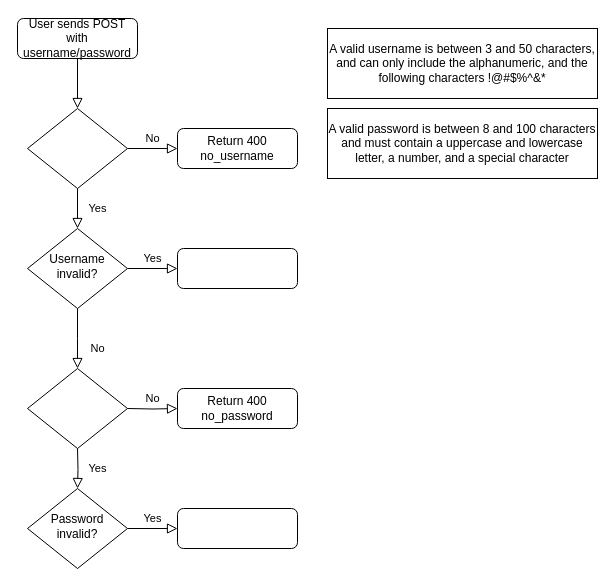
Image size: 615x586. Some labels were removed from this diagram. Here are the shapes that lost their labels. From the top down, the centre of each, then its label:
At (x=77, y=148): "Username sent?".
At (x=237, y=268): "Return 400 invalid_username".
At (x=77, y=408): "Password sent?".
At (x=237, y=528): "Return 400 invalid_password".
